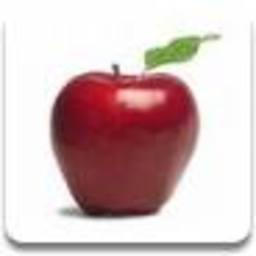apple: (48, 70, 199, 216)
